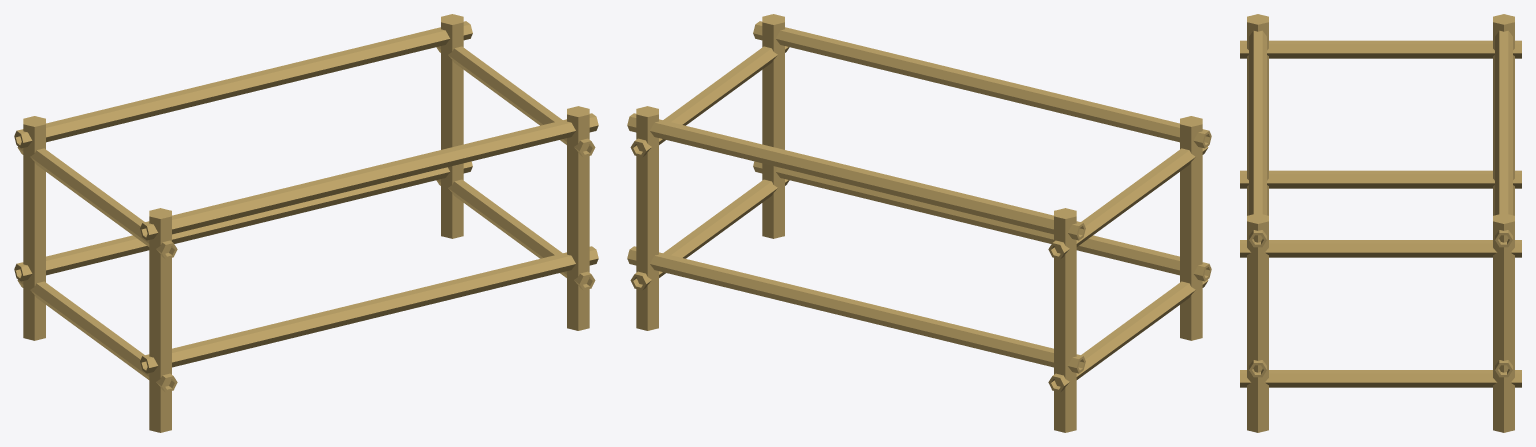
Rendered from ban_tre.far.glb.
The picture shows the model from 3 angles, left to right: view 1: azimuth 30°, elevation 25°; view 2: azimuth 150°, elevation 25°; view 3: azimuth 270°, elevation 25°; orthographic projection. The views are drawn at different scales.
Parts seen in each view (by area): view 1: ban_tre; view 2: ban_tre; view 3: ban_tre.
Part boxes in pixels (x1,y1,x2,y2): ban_tre: [14, 14, 598, 432]; ban_tre: [627, 14, 1211, 432]; ban_tre: [1240, 14, 1521, 432].
Bounding box in the file's own units: 0.99 × 0.45 × 0.55.
